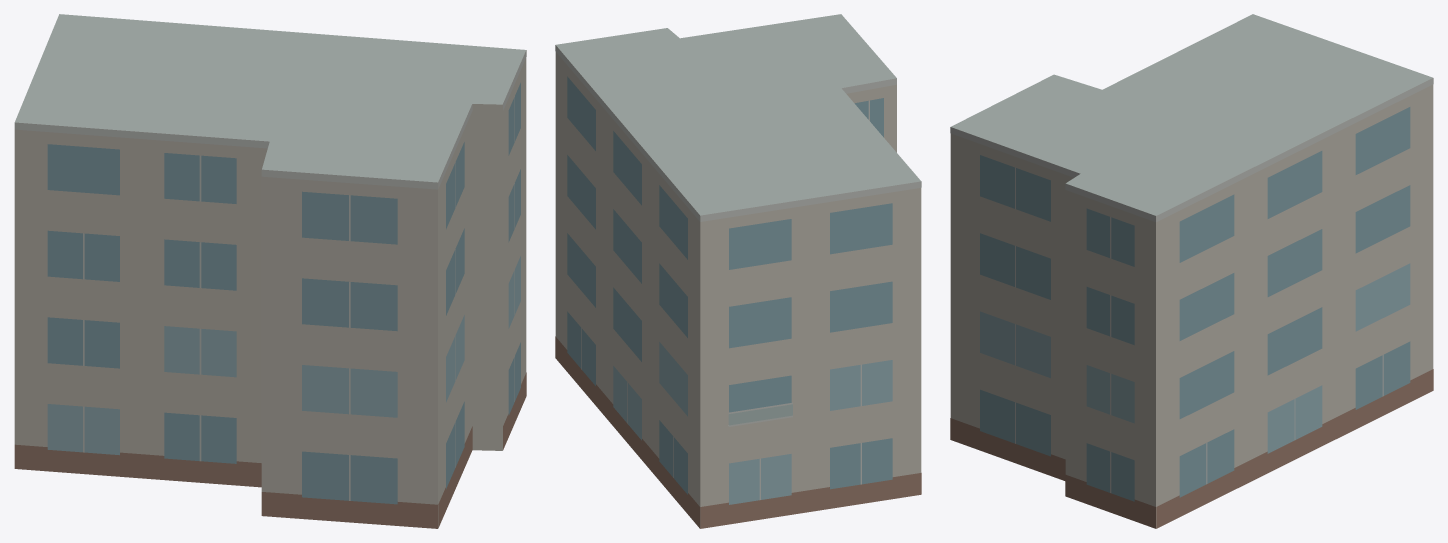
Rendered from survey-upis-32808782.glb.
3 renders of one model, left to right at view 1: azimuth 30°, elevation 25°; view 2: azimuth 150°, elevation 25°; view 3: azimuth 270°, elevation 25°, orthographic. The views are drawn at different scales.
Parts seen in each view (by area): view 1: survey-upis-32808782.tmp; view 2: survey-upis-32808782.tmp; view 3: survey-upis-32808782.tmp.
Part boxes in pixels (<box>): survey-upis-32808782.tmp: <box>14,14,526,528</box>; survey-upis-32808782.tmp: <box>555,14,921,528</box>; survey-upis-32808782.tmp: <box>950,14,1433,528</box>.
Bounding box in the file's own units: 16.48 × 11.9 × 16.66.
